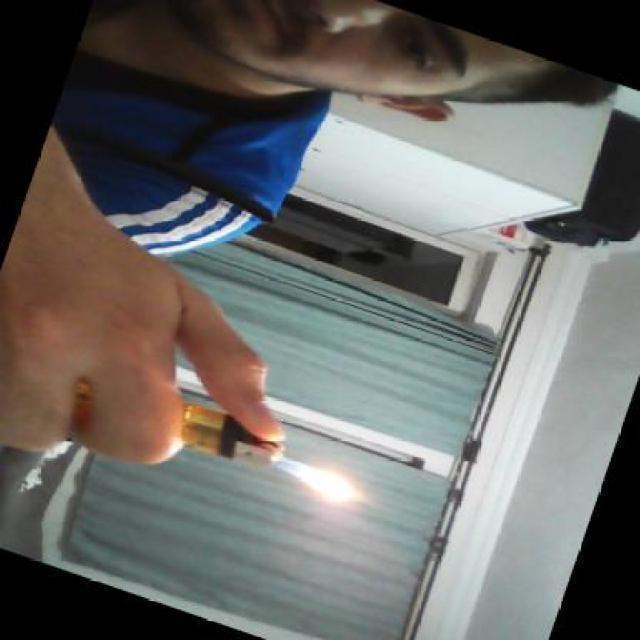Fire: (273, 454, 389, 523)
